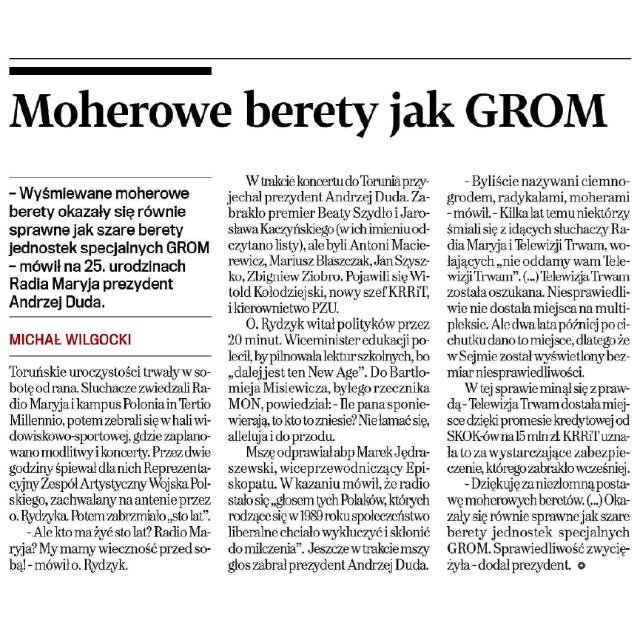author: (5, 324, 141, 350)
body: (224, 168, 433, 574), (442, 168, 634, 574), (4, 360, 216, 574)
lead: (5, 180, 214, 312)
title: (6, 85, 614, 141)
